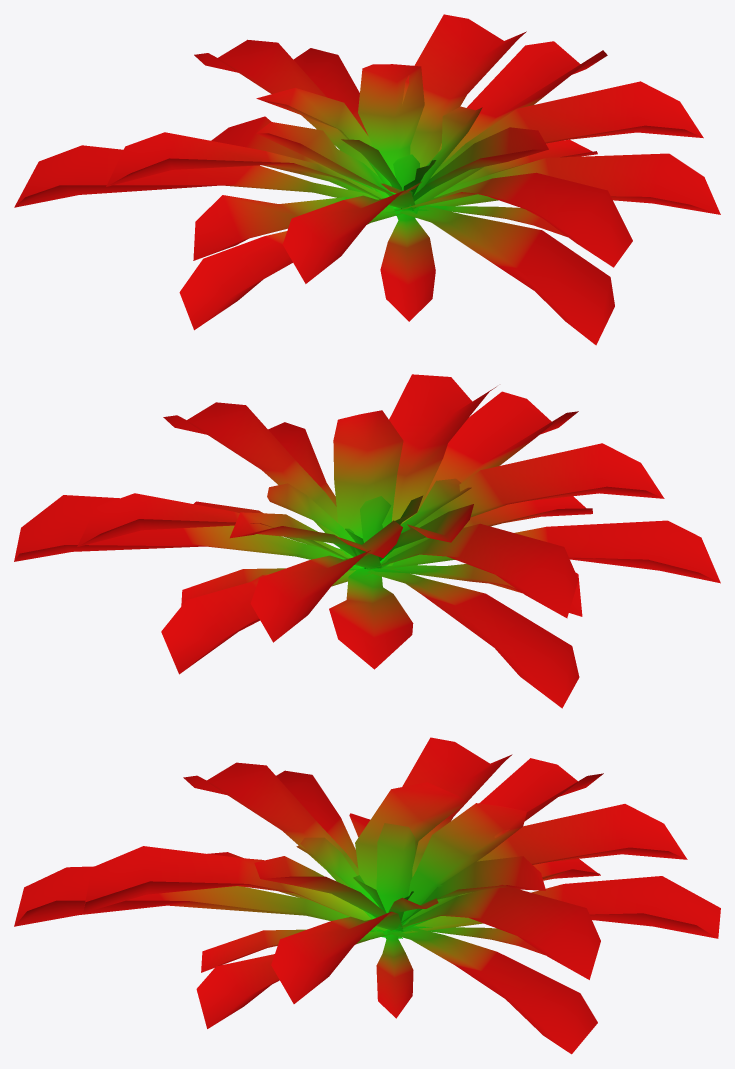
The model's file is Var9_LOD1.fbx.
3 views of the same model, one above another, from view 1: azimuth 30°, elevation 25°; view 2: azimuth 150°, elevation 25°; view 3: azimuth 270°, elevation 25° (orthographic).
Visible parts, largest first — view 1: _ofbr_Var9_LOD1; view 2: _ofbr_Var9_LOD1; view 3: _ofbr_Var9_LOD1.
Part boxes in pixels (x1,y1,x2,y2): _ofbr_Var9_LOD1: [14, 14, 720, 345]; _ofbr_Var9_LOD1: [14, 374, 720, 708]; _ofbr_Var9_LOD1: [14, 737, 720, 1054].
Size of the model in its own units: 34.63 by 5.92 by 37.27.
